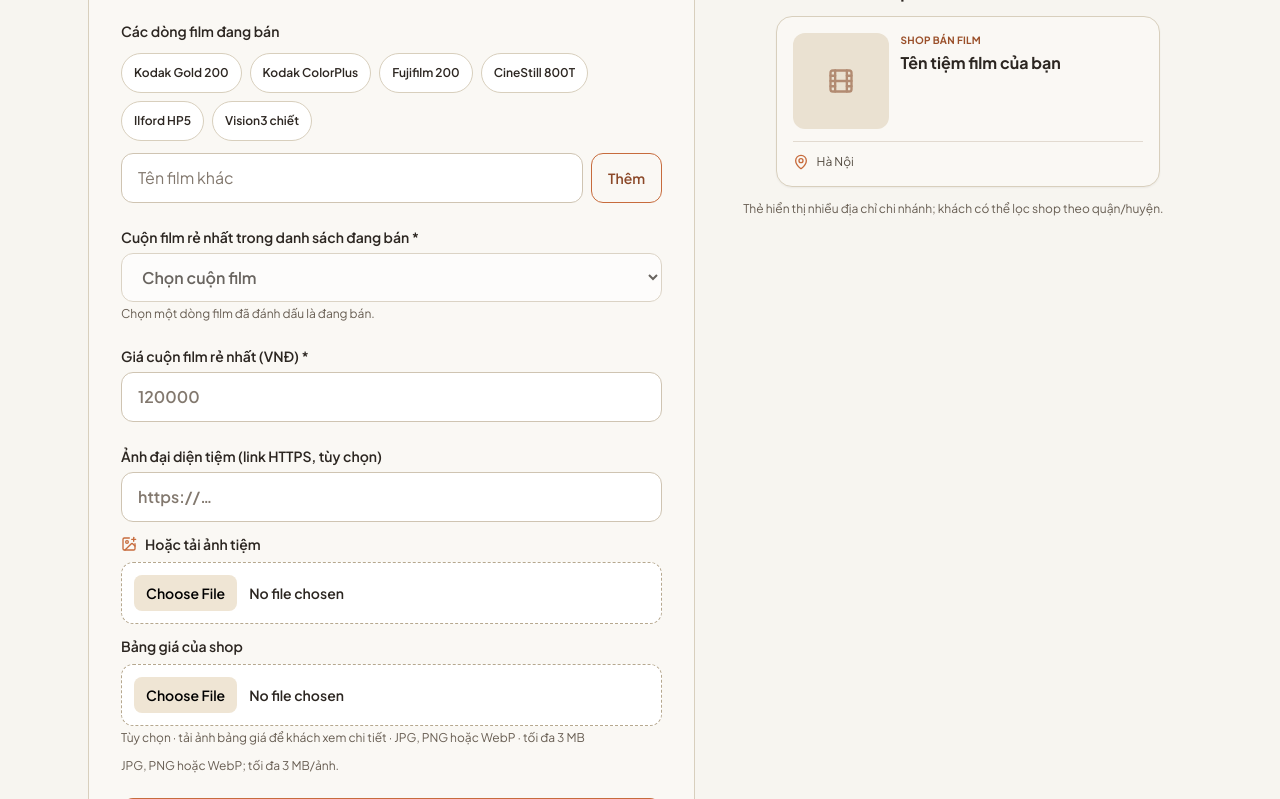
partner onboarding pages › requires only the cheapest roll price on the film-shop registration form
(page scrolled)
Expected: the file field labelled "ảnh bảng giá" is shown, [121,664,662,726]
Step 1. Type "125000" into the number field labelled "Giá cuộn film rẻ nhất (VNĐ) *" → (392, 397), box [121,372,662,422]
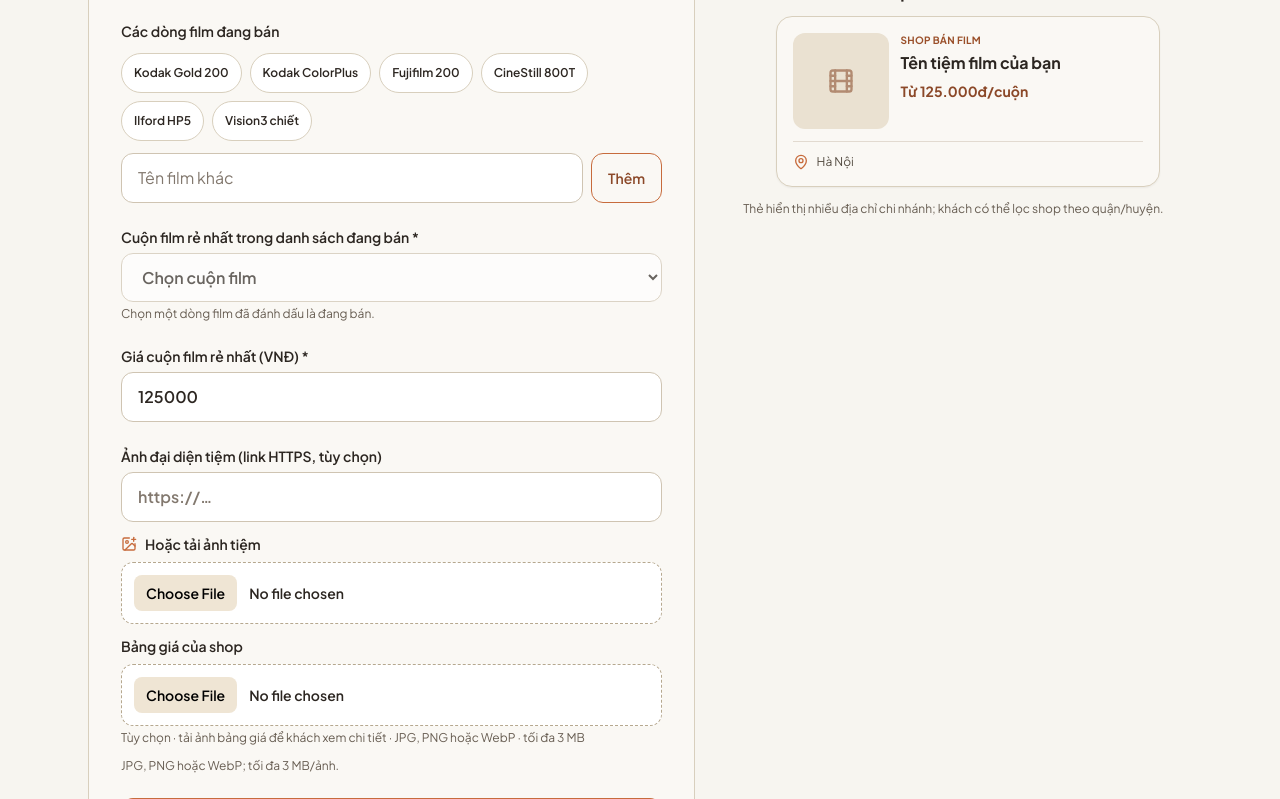
Expected: the element with test id "partner-preview" shows "Từ 125.000đ/cuộn", [901,81,1028,99]
